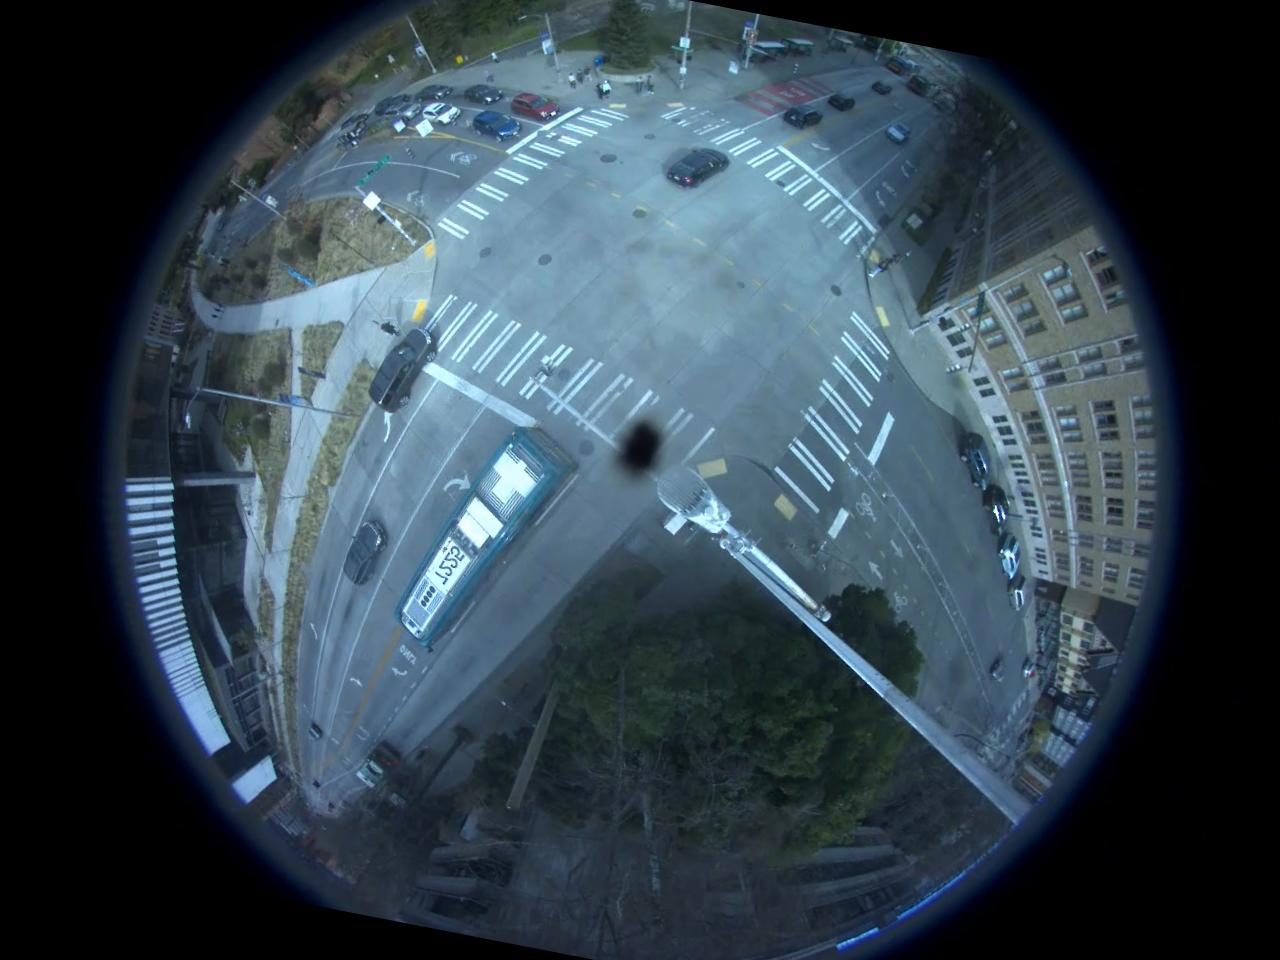bus: (391, 409, 579, 663), (352, 737, 401, 792), (881, 54, 926, 82)
car: (363, 320, 440, 416), (340, 514, 390, 590), (671, 145, 729, 193), (466, 108, 522, 148), (956, 434, 996, 486), (509, 86, 562, 125), (976, 487, 1017, 532), (418, 96, 461, 126), (783, 100, 823, 132), (462, 80, 504, 110), (1003, 572, 1032, 612), (414, 76, 454, 104), (996, 534, 1020, 578), (381, 96, 416, 124), (826, 87, 856, 115), (882, 119, 912, 146)
person: (866, 253, 890, 282), (374, 318, 401, 337), (628, 72, 645, 100), (886, 246, 902, 270), (642, 71, 658, 94), (562, 70, 576, 94), (580, 63, 594, 86), (599, 78, 612, 102), (590, 80, 604, 100), (572, 67, 584, 89)
